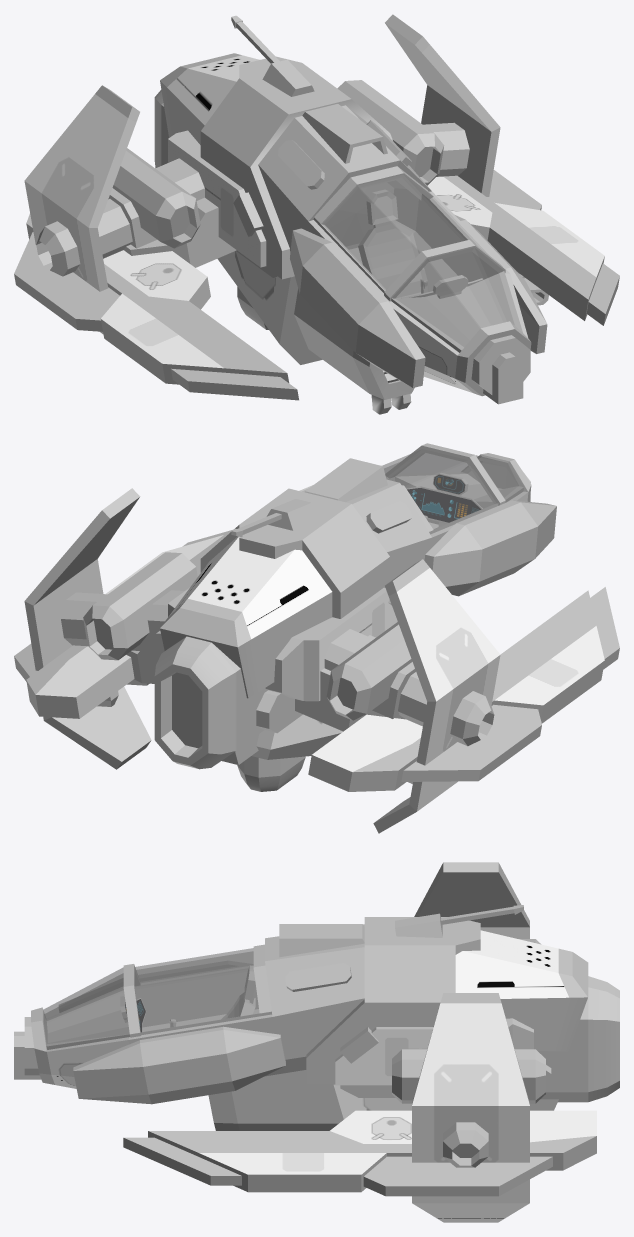
Rendered from SM_SpaceshipS_Assault01.fbx.
3 renders of one model, top to bottom at view 1: azimuth 30°, elevation 25°; view 2: azimuth 150°, elevation 25°; view 3: azimuth 270°, elevation 25°, orthographic. The views are drawn at different scales.
Parts seen in each view (by area): view 1: SM_SpaceshipS_Assault01_Cockpit, SM_SpaceshipS_Assault01_R_Wing, SM_SpaceshipS_Assault01_Body, SM_SpaceshipS_Assault01_L_Wing, SM_SpaceshipS_Assault01_Cockpit_Glass; view 2: SM_SpaceshipS_Assault01_Body, SM_SpaceshipS_Assault01_R_Wing, SM_SpaceshipS_Assault01_L_Wing, SM_SpaceshipS_Assault01_Cockpit, SM_SpaceshipS_Assault01_Cockpit_Glass; view 3: SM_SpaceshipS_Assault01_L_Wing, SM_SpaceshipS_Assault01_Body, SM_SpaceshipS_Assault01_Cockpit, SM_SpaceshipS_Assault01_Cockpit_Glass, SM_SpaceshipS_Assault01_R_Wing.
Boxes of the visible parts, x1=… form: SM_SpaceshipS_Assault01_Cockpit: x1=258, y1=104, x2=547, y2=404; SM_SpaceshipS_Assault01_R_Wing: x1=14, y1=85, x2=298, y2=400; SM_SpaceshipS_Assault01_Body: x1=154, y1=15, x2=414, y2=414; SM_SpaceshipS_Assault01_L_Wing: x1=337, y1=14, x2=619, y2=325; SM_SpaceshipS_Assault01_Cockpit_Glass: x1=323, y1=175, x2=475, y2=289; SM_SpaceshipS_Assault01_Body: x1=154, y1=488, x2=402, y2=791; SM_SpaceshipS_Assault01_R_Wing: x1=295, y1=559, x2=619, y2=833; SM_SpaceshipS_Assault01_L_Wing: x1=14, y1=488, x2=233, y2=769; SM_SpaceshipS_Assault01_Cockpit: x1=299, y1=443, x2=556, y2=596; SM_SpaceshipS_Assault01_Cockpit_Glass: x1=382, y1=449, x2=496, y2=529; SM_SpaceshipS_Assault01_L_Wing: x1=123, y1=993, x2=596, y2=1222; SM_SpaceshipS_Assault01_Body: x1=208, y1=905, x2=619, y2=1130; SM_SpaceshipS_Assault01_Cockpit: x1=14, y1=924, x2=364, y2=1104; SM_SpaceshipS_Assault01_Cockpit_Glass: x1=134, y1=948, x2=259, y2=1032; SM_SpaceshipS_Assault01_R_Wing: x1=414, y1=862, x2=541, y2=944.
Size of the model in its own units: 481 by 276 by 588.
